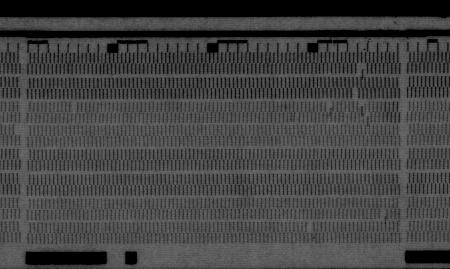Broken hole: (354, 63, 369, 77), (68, 100, 80, 114), (379, 207, 390, 220), (304, 221, 316, 232), (13, 123, 22, 137), (351, 88, 361, 99)
Oblique printing: (324, 100, 336, 115), (358, 100, 368, 114), (364, 111, 373, 125)
